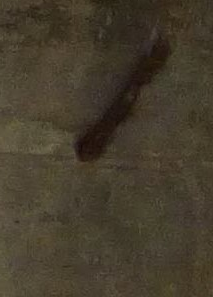Exposed reinforcement: (74, 41, 169, 163)
